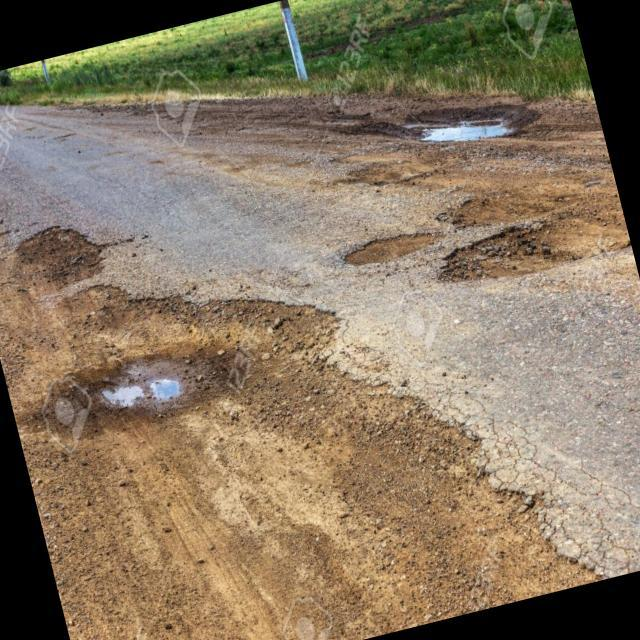Pothole: (433, 198, 634, 304), (58, 327, 224, 436), (444, 166, 574, 242), (408, 82, 534, 160), (14, 214, 107, 298), (336, 219, 444, 273)
